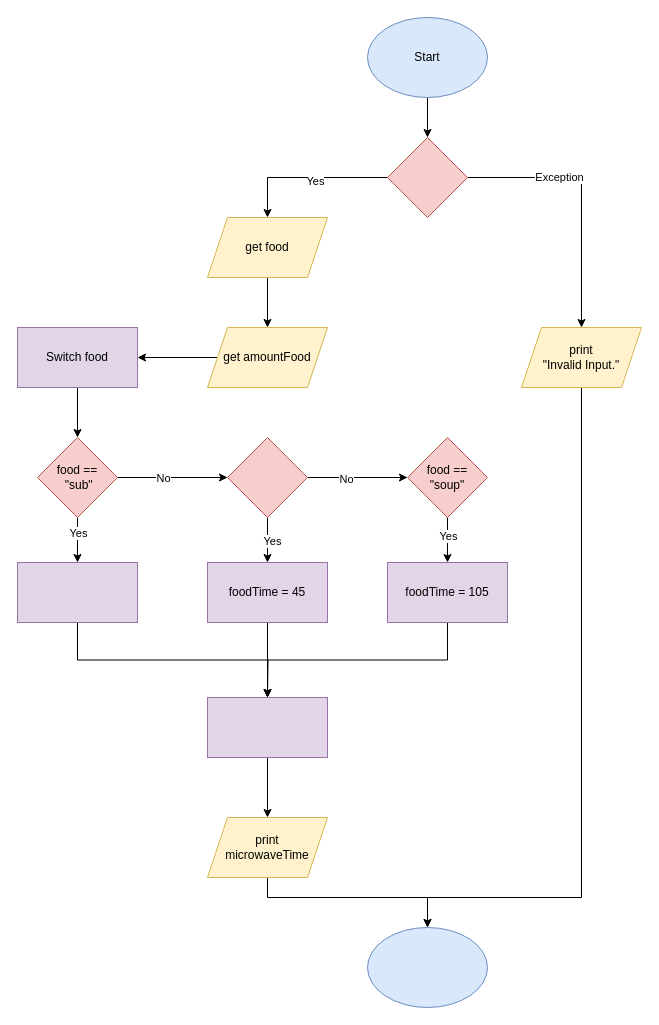
Some shapes in this 659 by 1025 pixel diagram are drawn without their labels. The centre of each missing label's shape, as x and y in pixels:
food == "pizza": (267,477)
foodTime = 60: (77,592)
microwaveTime = amountFood * foodTime: (267,727)
Stop: (427,967)
try: (427,177)
